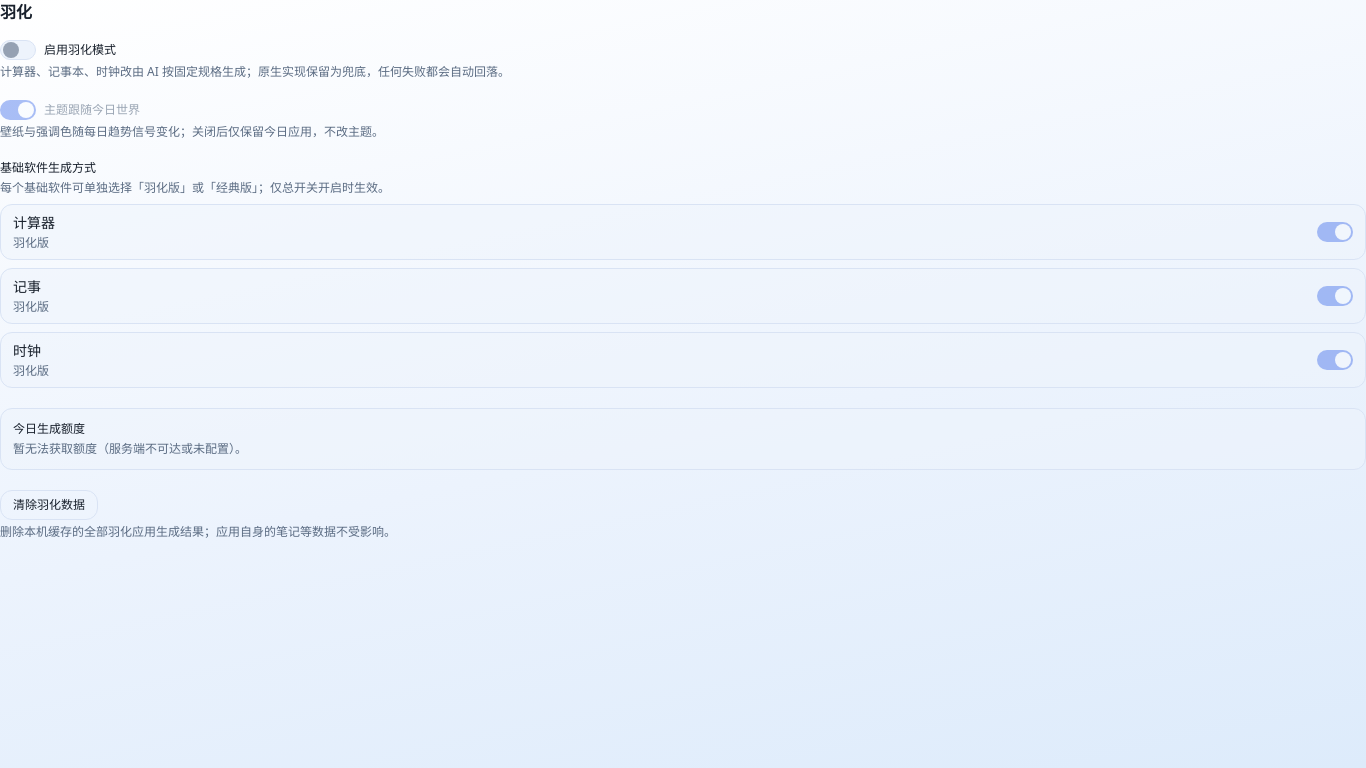
Test: EclosionSection（生成方式 / 清除数据） › clears the eclosion cache after confirmation and confirms
Click the button with test id "eclosion-clear": {"x": 49, "y": 505} [0,490,98,520]
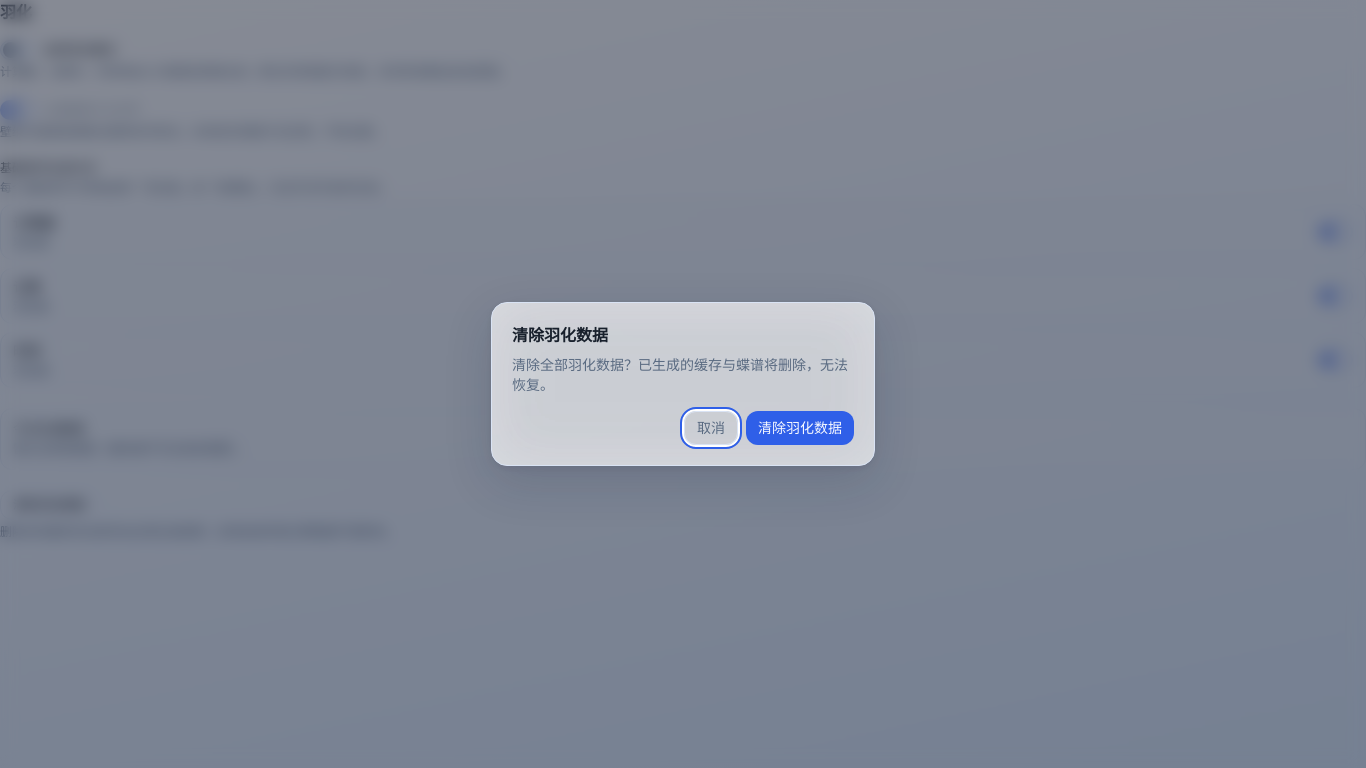
# 不可逆操作：先落在二次确认弹层上，取消不执行。
Click the button "取消": {"x": 711, "y": 428} [684,411,738,445]
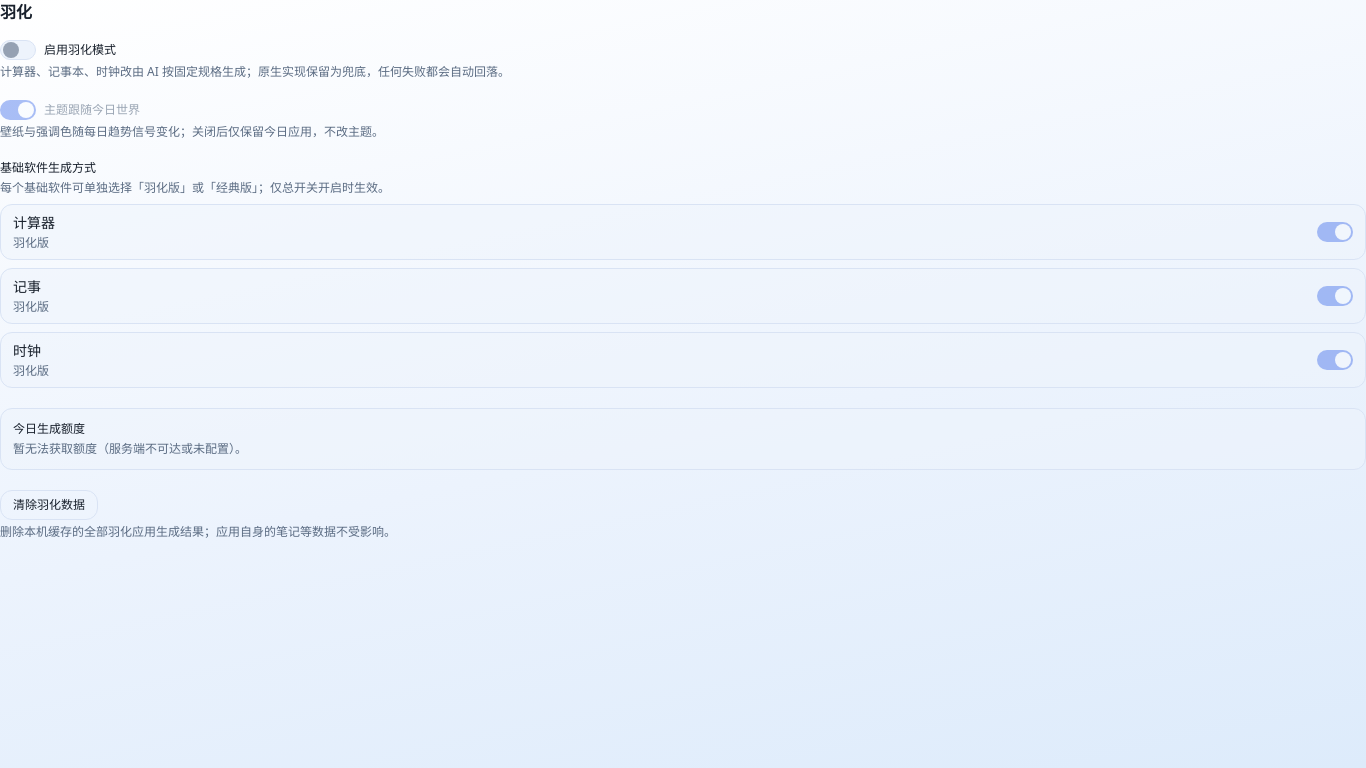
Click the button with test id "eclosion-clear": {"x": 49, "y": 505} [0,490,98,520]
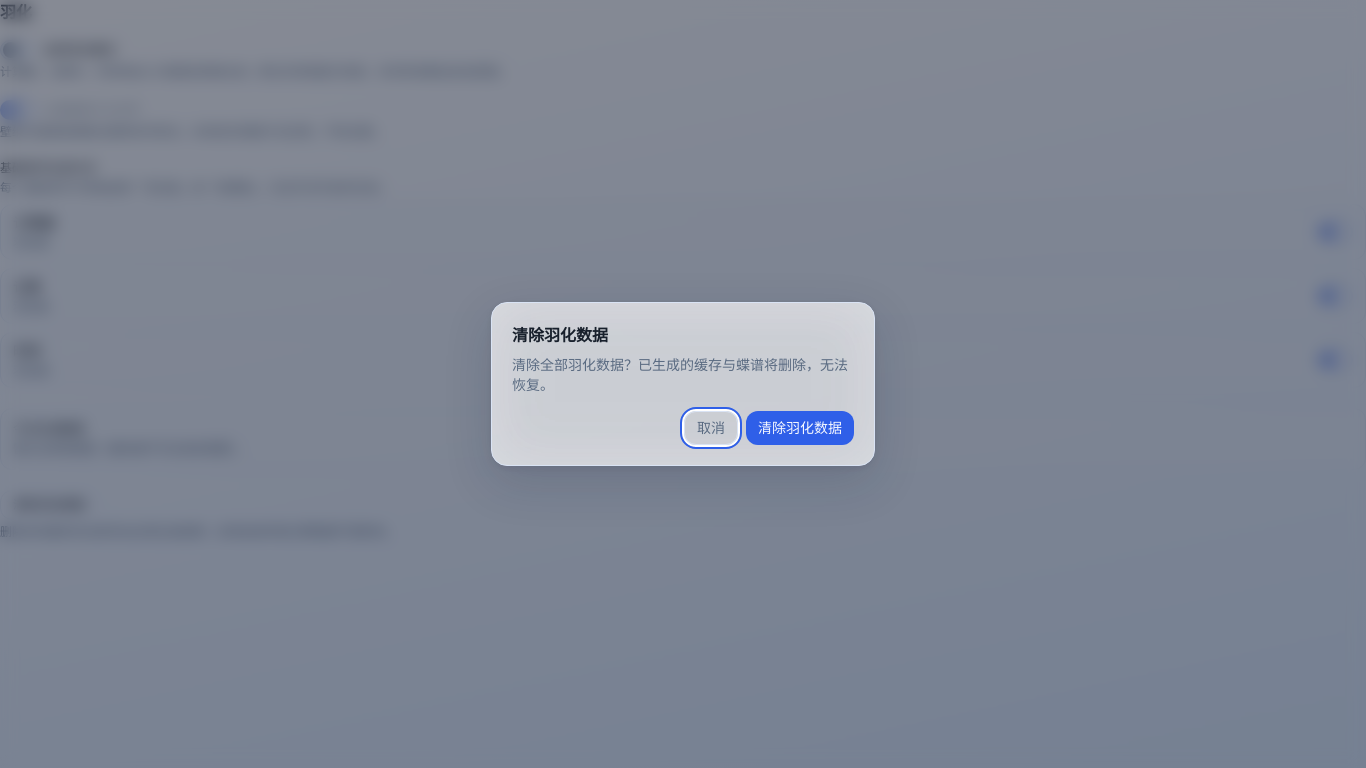
Click the button "清除羽化数据": {"x": 800, "y": 428} [746,411,854,445]
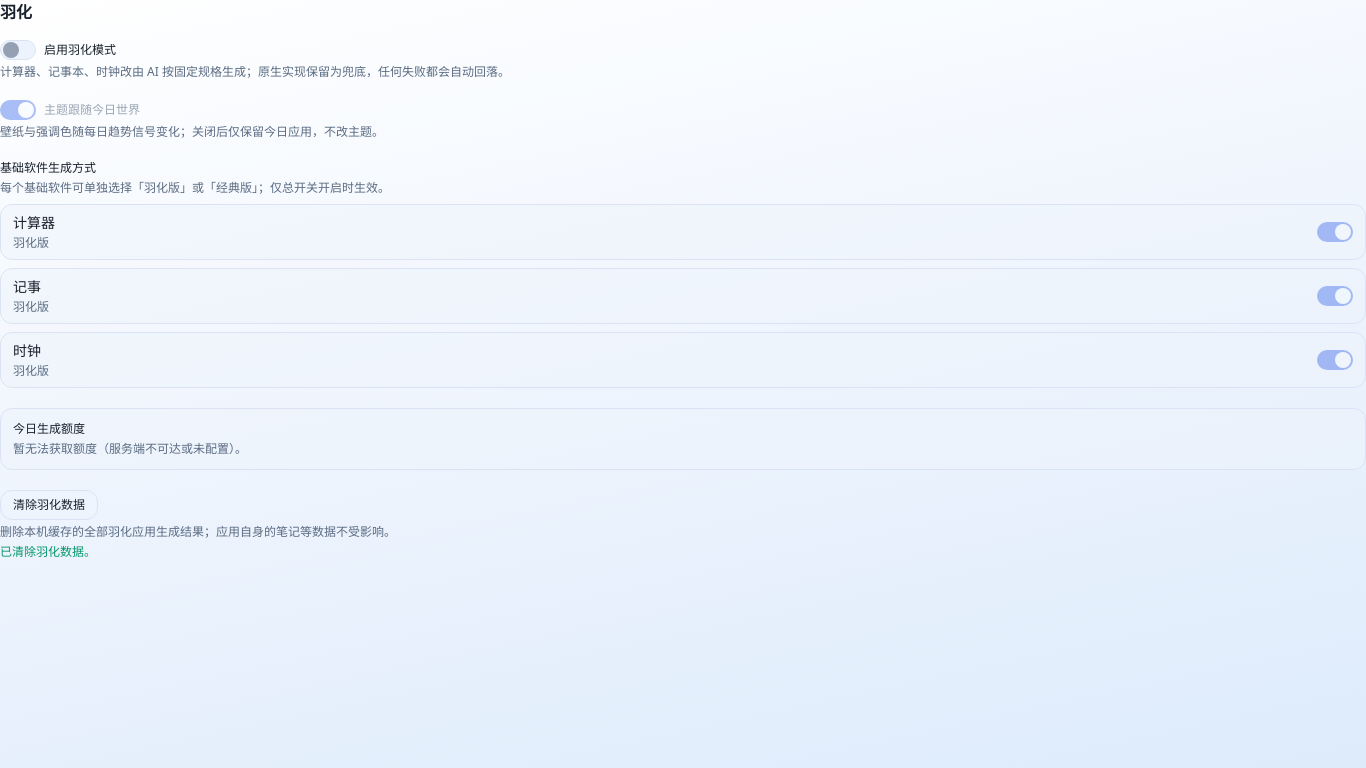
Check: the text "已清除羽化数据。" is shown, box [0,543,96,560]
